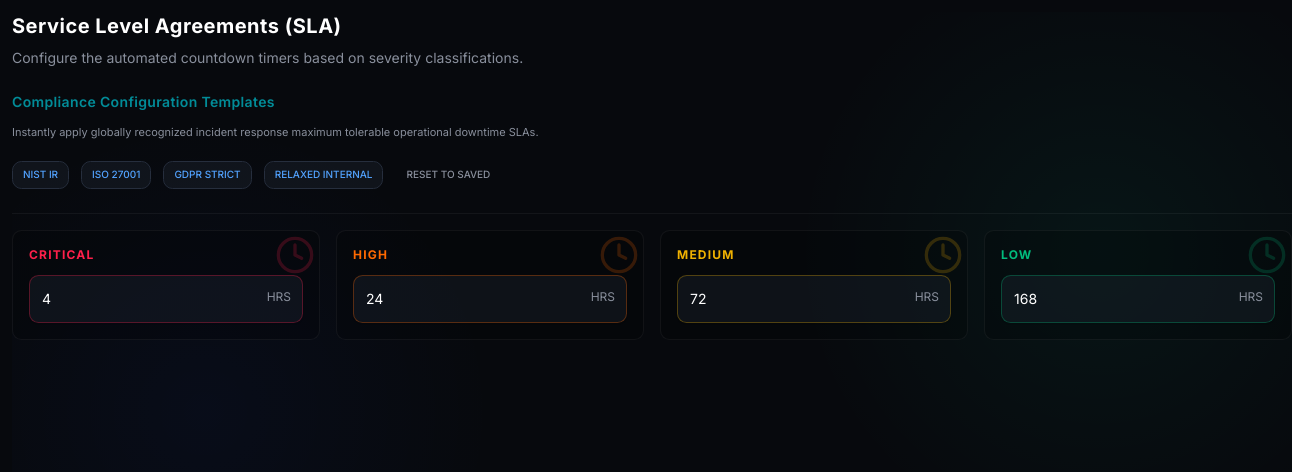
Test: SlaSettingsPanel › applies templates
This screenshot has width=1292, height=472.
Click the button "GDPR STRICT". click: click(208, 174)
box: [163,160,252,188]
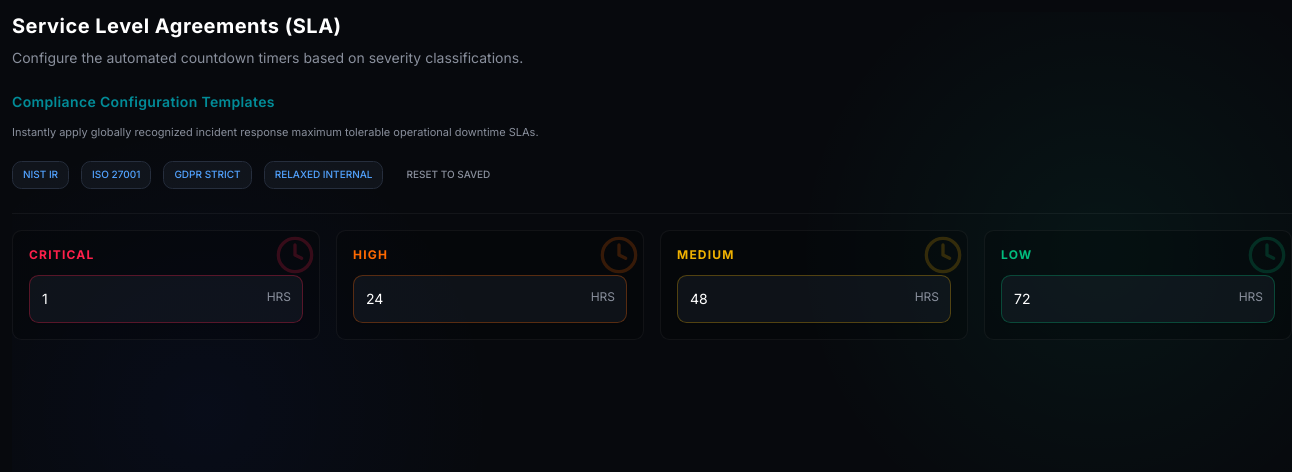
expect the number field named "slaHighHours" below "High" holds "24": met, box [353,274,627,322]
expect the number field named "slaCriticalHours" below "Critical" holds "1": met, box [29,274,303,322]
expect the number field named "slaMediumHours" below "Medium" holds "48": met, box [677,274,951,322]
